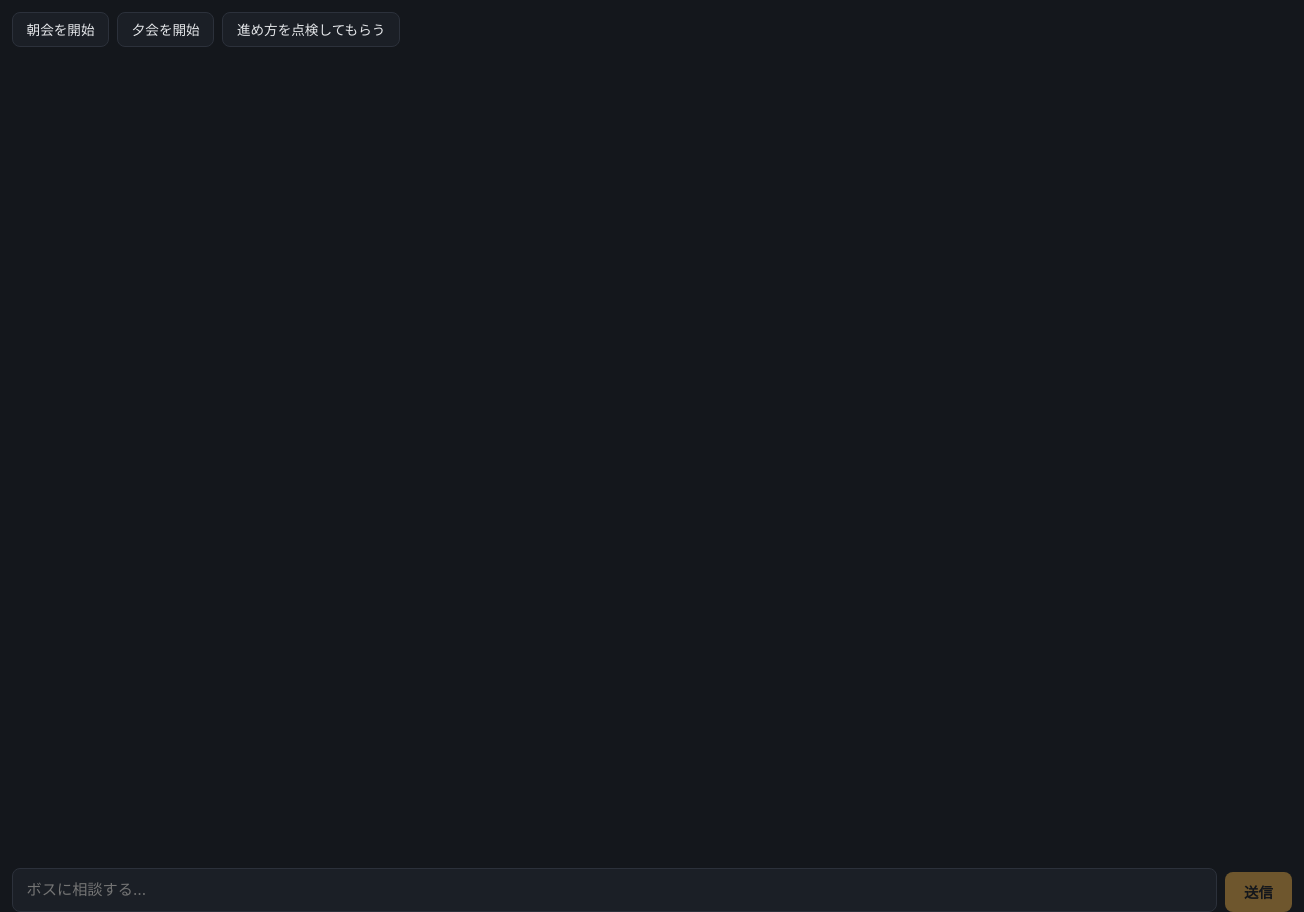
ChatView › renders a tool notice when the boss operates a task
This screenshot has width=1304, height=912.
Type "タスク化して" into the text box named "メッセージ". click: (614, 890)
box: [12,868,1217,911]
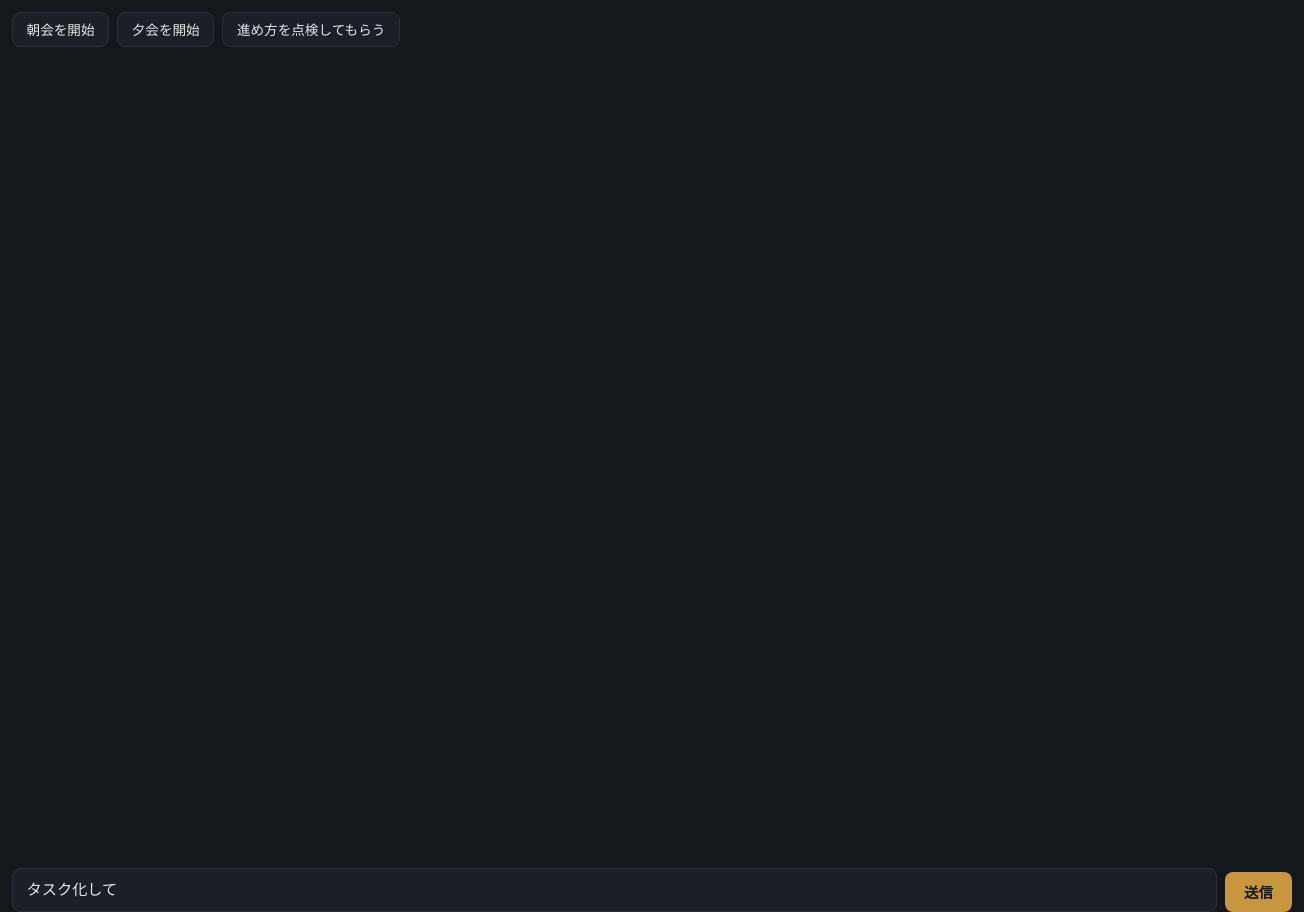
Click the button "送信". click: (1258, 892)
box: [1225,872,1292,911]
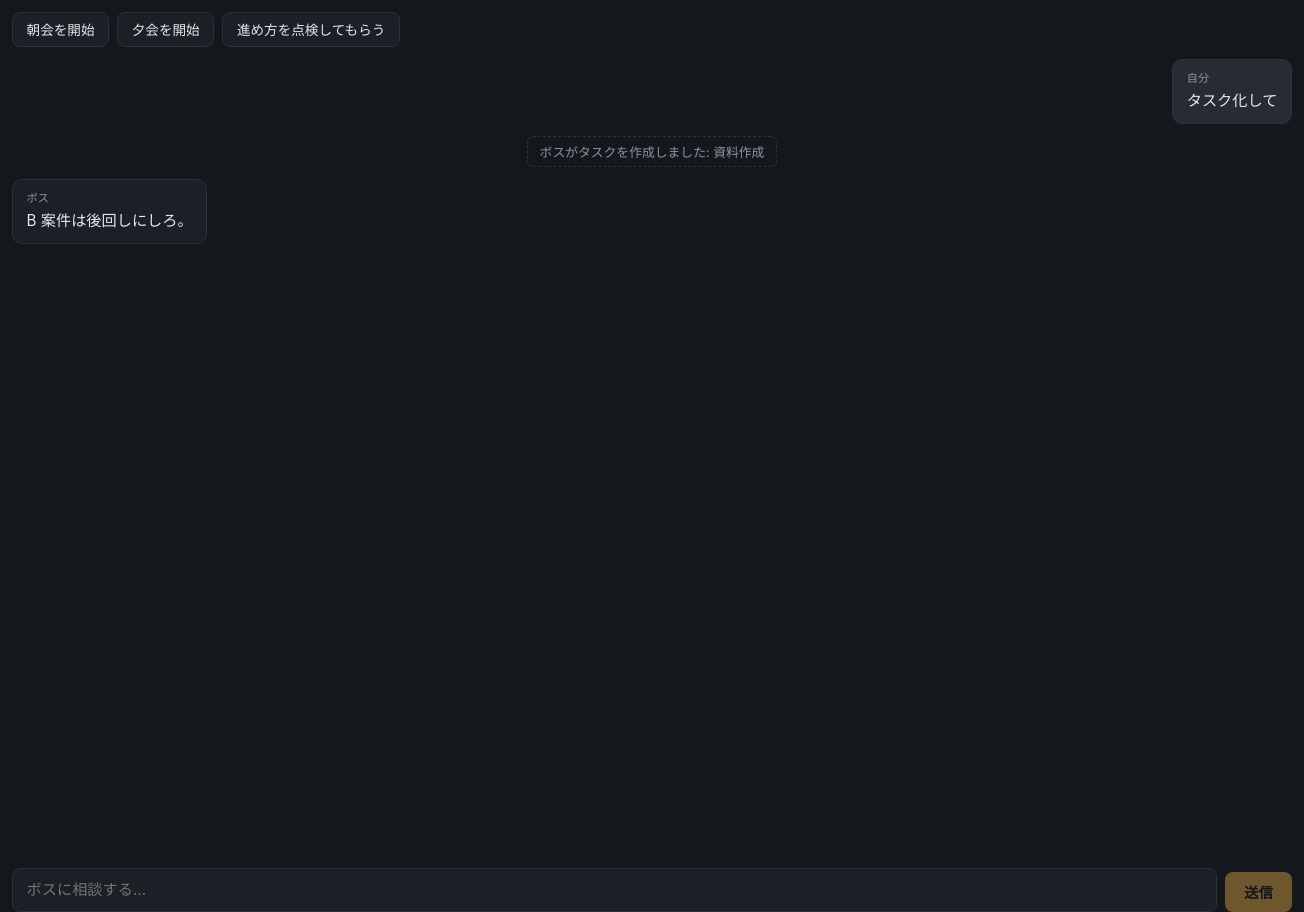
Result: the list item "ボスがタスクを作成しました: 資料作成" is shown at [527,136,777,167]
